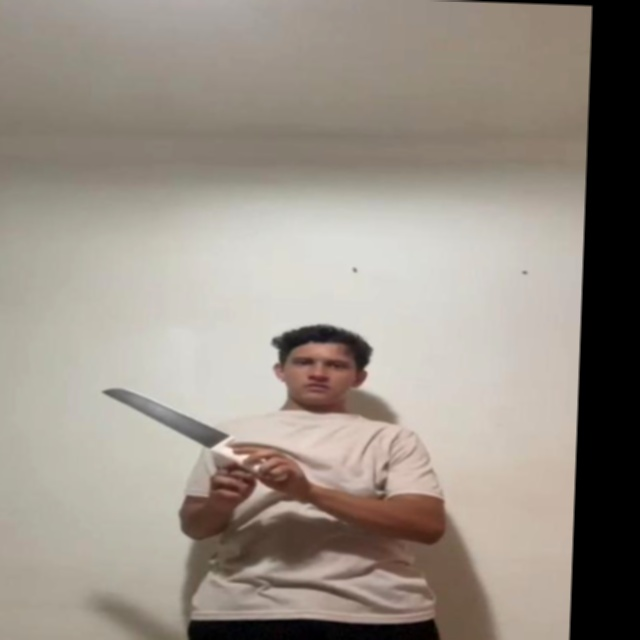Sharp-Object: (105, 387, 230, 442)
